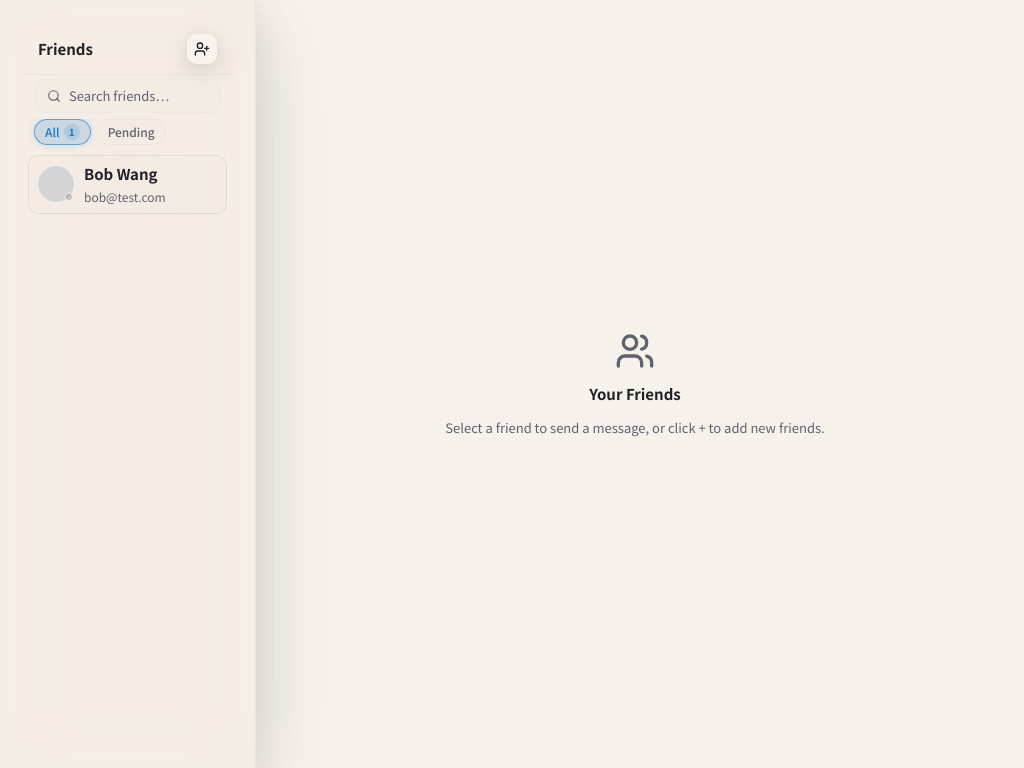
TC-F-NEW-11: Pending tab empty state › shows no-pending-requests message when pending list is empty
The width and height of the screenshot is (1024, 768).
Click the button "Pending" at (131, 132), box [97, 119, 166, 145]
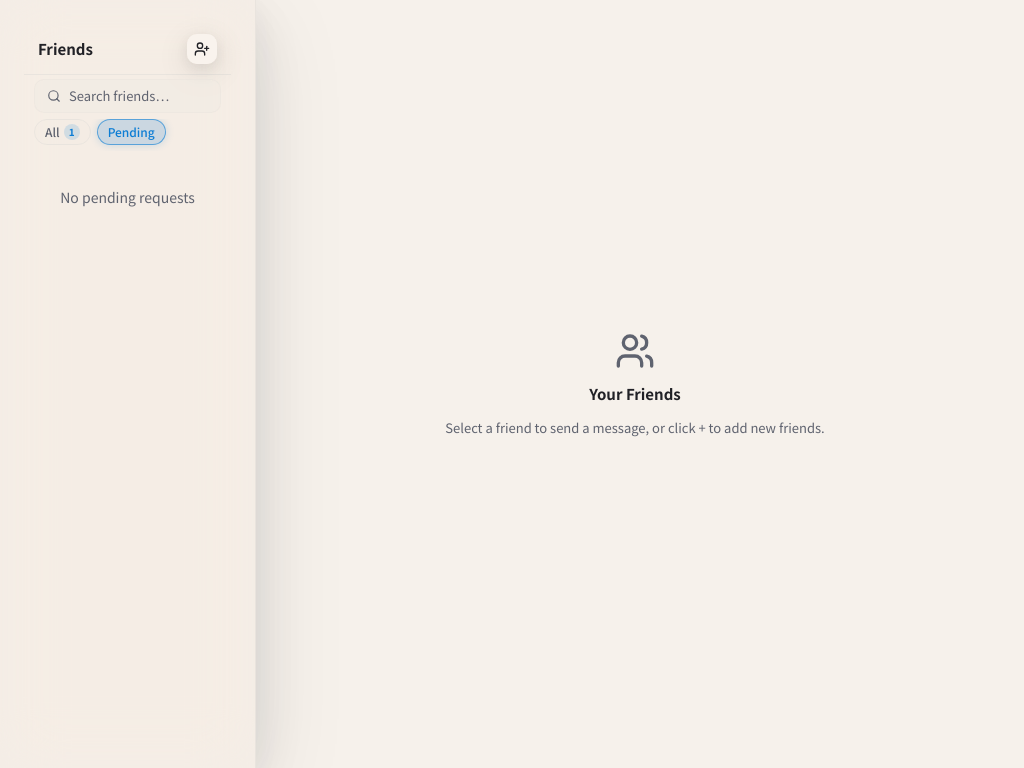
Result: the text "No pending requests" is shown at [60, 187, 195, 208]
